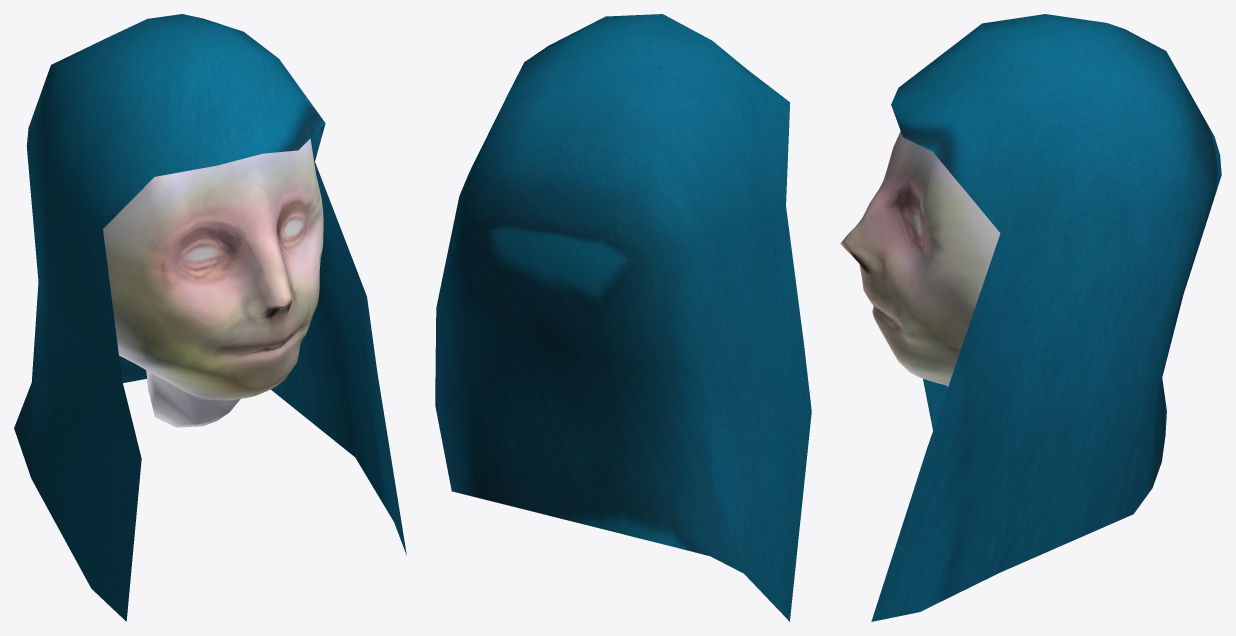
Rendered from SM_Cinderella_00_Head01.fbx.
3 views of the same model, side by side, from view 1: azimuth 30°, elevation 25°; view 2: azimuth 150°, elevation 25°; view 3: azimuth 270°, elevation 25° (orthographic). The views are drawn at different scales.
Visible parts, largest first — view 1: SM_Cinderella_00_Head01; view 2: SM_Cinderella_00_Head01; view 3: SM_Cinderella_00_Head01.
Boxes of the visible parts, <box> form: SM_Cinderella_00_Head01: <box>14,14,406,621</box>; SM_Cinderella_00_Head01: <box>435,14,811,621</box>; SM_Cinderella_00_Head01: <box>840,14,1221,621</box>.
Size of the model in its own units: 40.71 by 75.03 by 46.19.
